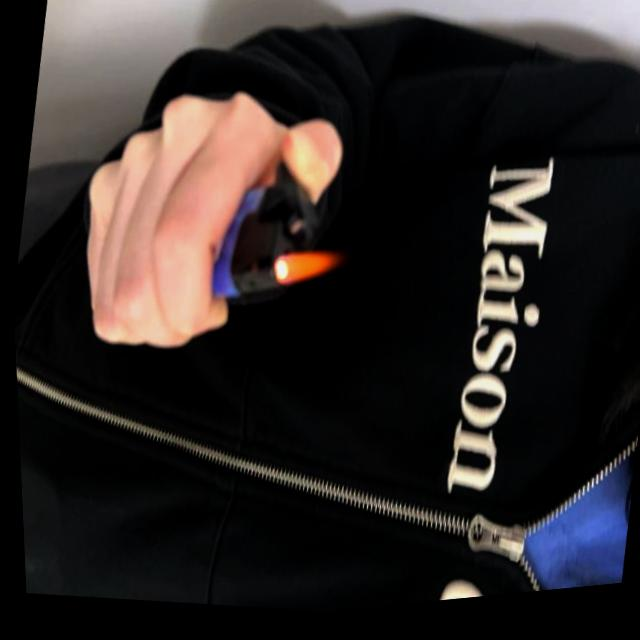Fire: (263, 242, 350, 306)
